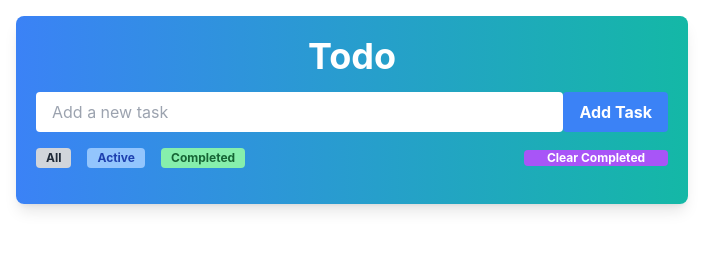
ToDo Component › allows users to add a task
Type "New Task" into the field with placeholder "Add a new task" at [300, 112], box [36,92,563,132]
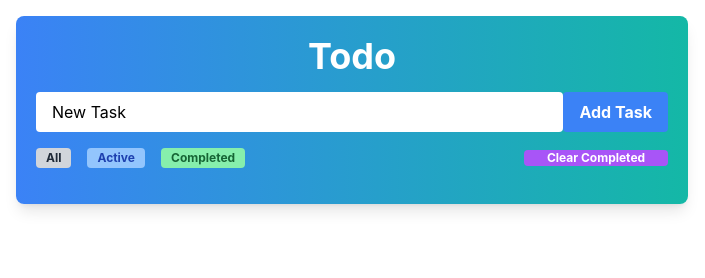
Click the button "Add Task" at [616, 112], box [563,92,668,132]
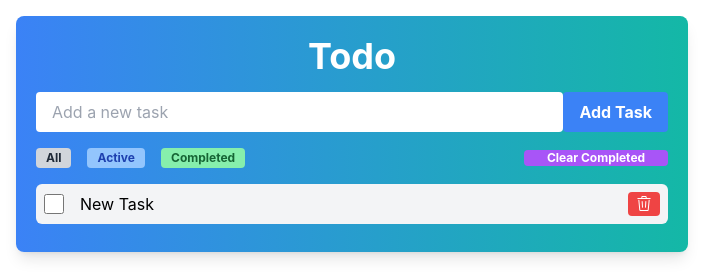
Check: the text "New Task" is shown, box [80,194,154,214]
